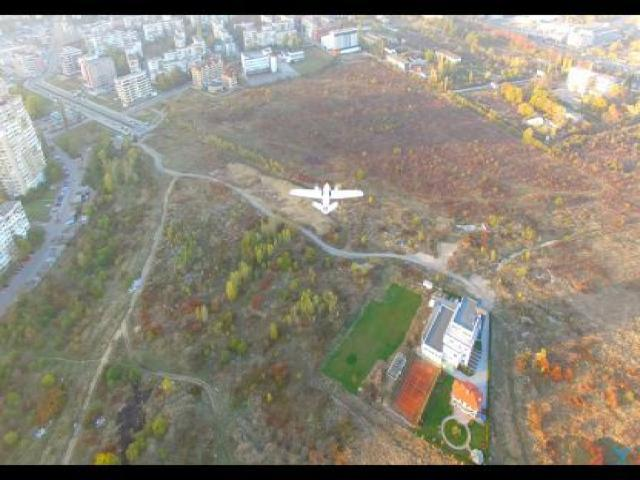uav: (283, 172, 371, 221)
